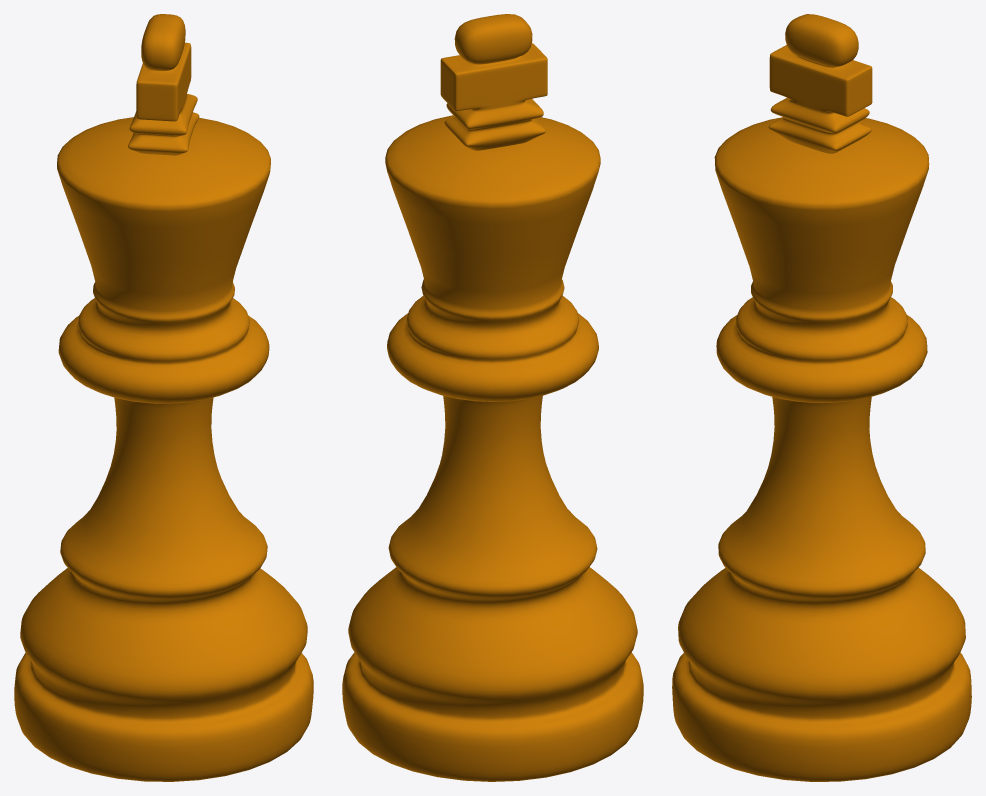
Rendered from king.obj.
3 views of the same model, side by side, from view 1: azimuth 30°, elevation 25°; view 2: azimuth 150°, elevation 25°; view 3: azimuth 270°, elevation 25° (orthographic).
Parts seen in each view (by area): view 1: King; view 2: King; view 3: King.
Boxes of the visible parts, x1=… form: King: x1=14, y1=14, x2=313, y2=781; King: x1=342, y1=14, x2=643, y2=781; King: x1=672, y1=14, x2=971, y2=781.
Size of the model in its own units: 0.4997 by 1.3 by 0.4997.
